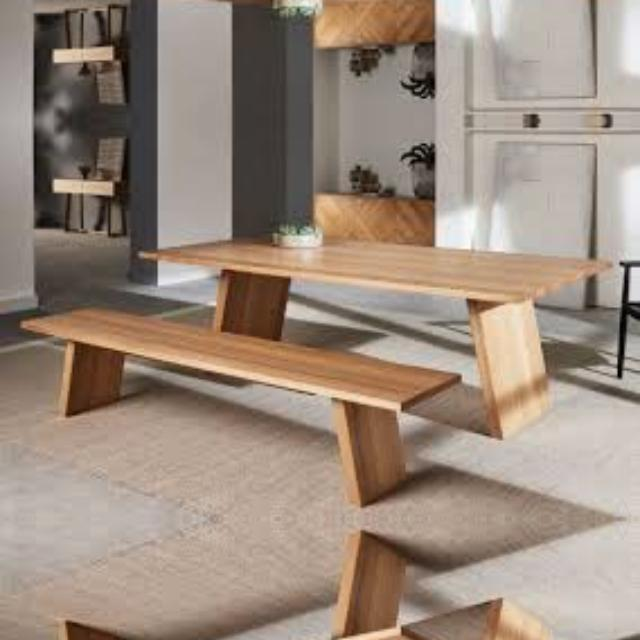obstacle: (9, 276, 479, 478), (139, 171, 611, 321), (9, 559, 479, 640), (139, 0, 611, 69)
